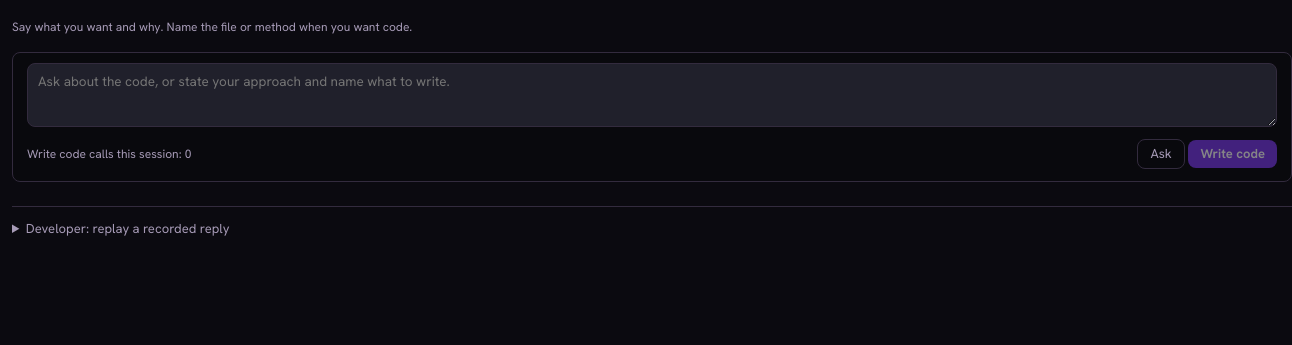
Test: the assistant panel › streams an Ask reply into the chat log
expect the button "Ask" is shown: met, box [1137,139,1185,169]
Replace the text in the text box named "Message" with "fix it" at (652, 95), box [27,63,1277,127]
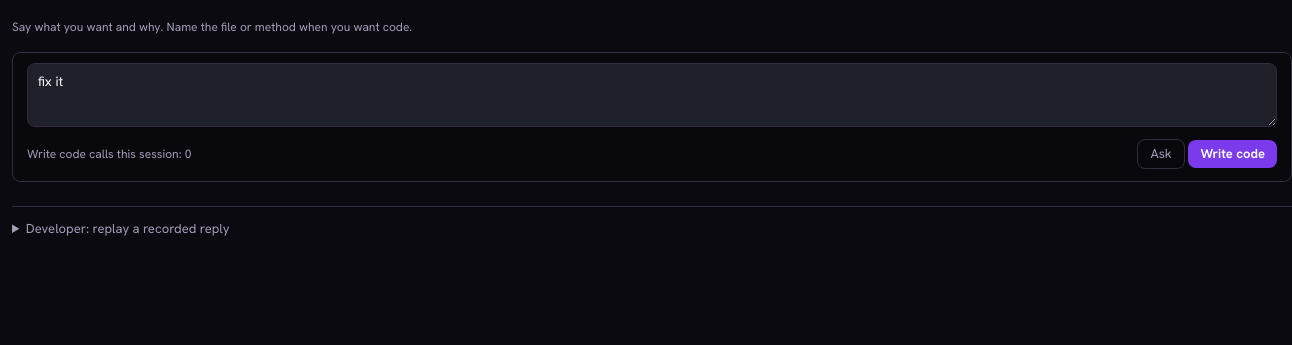
Click the button "Ask" at (1161, 154), box [1137,139,1185,169]
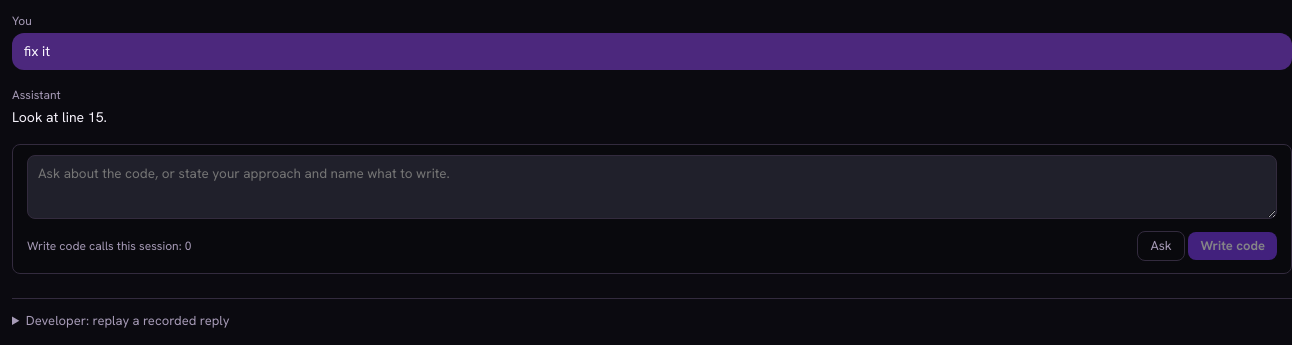
expect the text "Look at line 15." is shown: met, box [12,108,107,126]
expect the text "fix it" is shown: met, box [12,33,1291,70]
